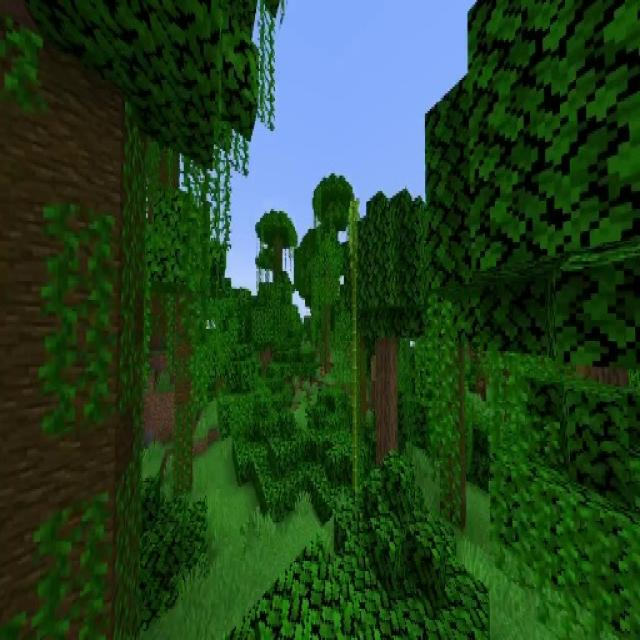jungle: (256, 208, 298, 328)
jungle_log: (4, 22, 138, 640), (440, 324, 466, 530), (173, 294, 193, 498)
oak: (346, 189, 440, 459)
oak_log: (375, 341, 397, 457)
